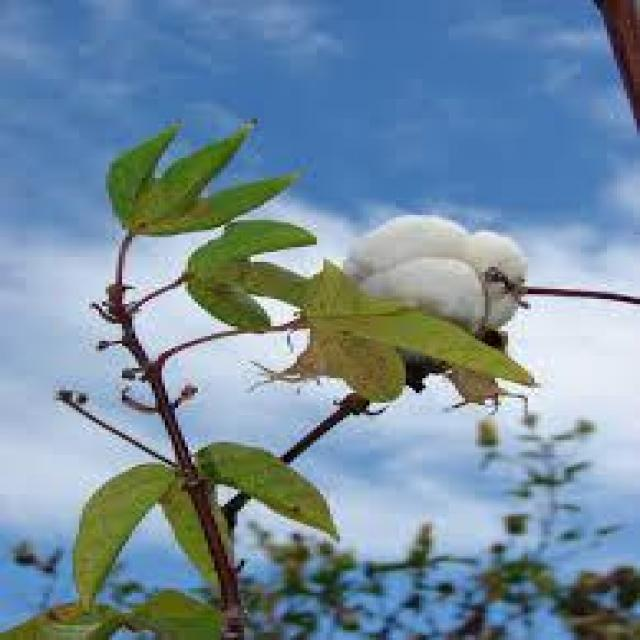Late_blight: (319, 201, 547, 355)
